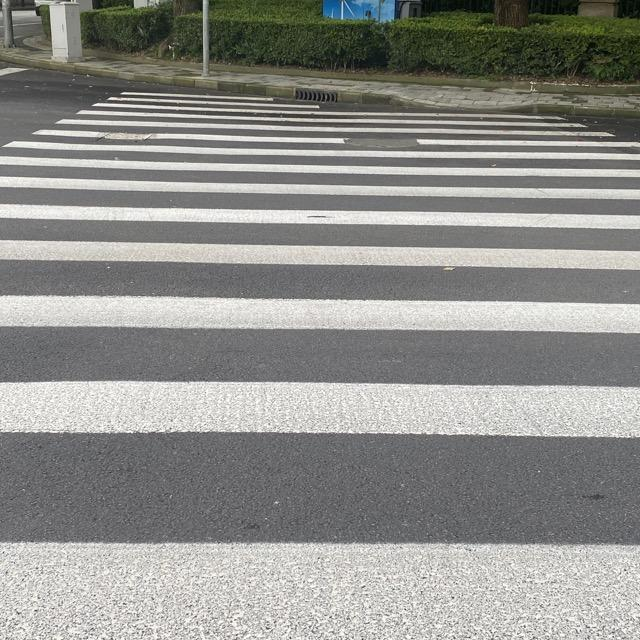curb: (0, 51, 639, 119), (230, 65, 639, 95), (83, 48, 202, 69), (210, 64, 229, 71)
